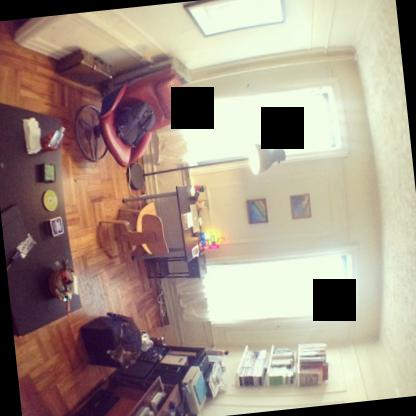backpack: (112, 100, 156, 148)
handbag: (114, 100, 154, 147)
suitcase: (79, 314, 121, 368), (55, 50, 111, 86)
